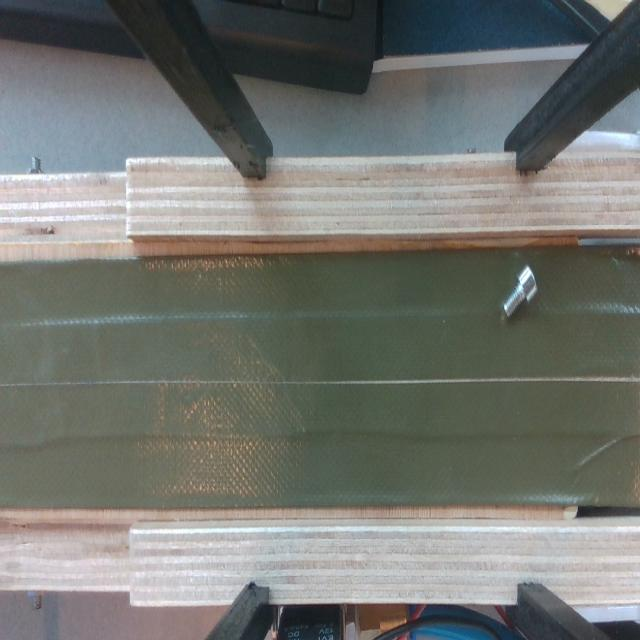Bolt: (502, 264, 538, 316)
